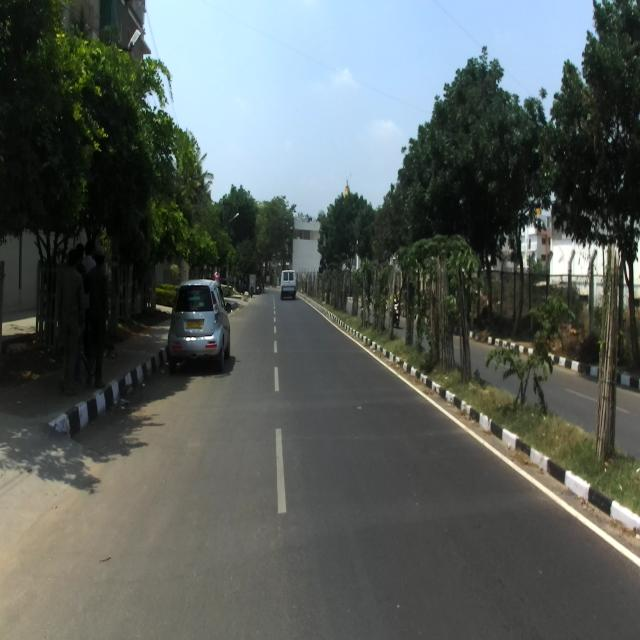car ahead at: (167, 279, 235, 377)
